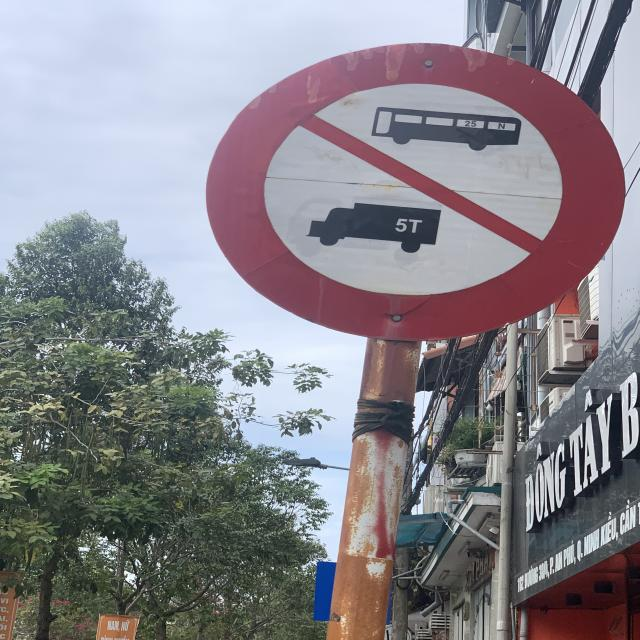Cam_XeTai_XeKhach: (204, 46, 626, 343)
